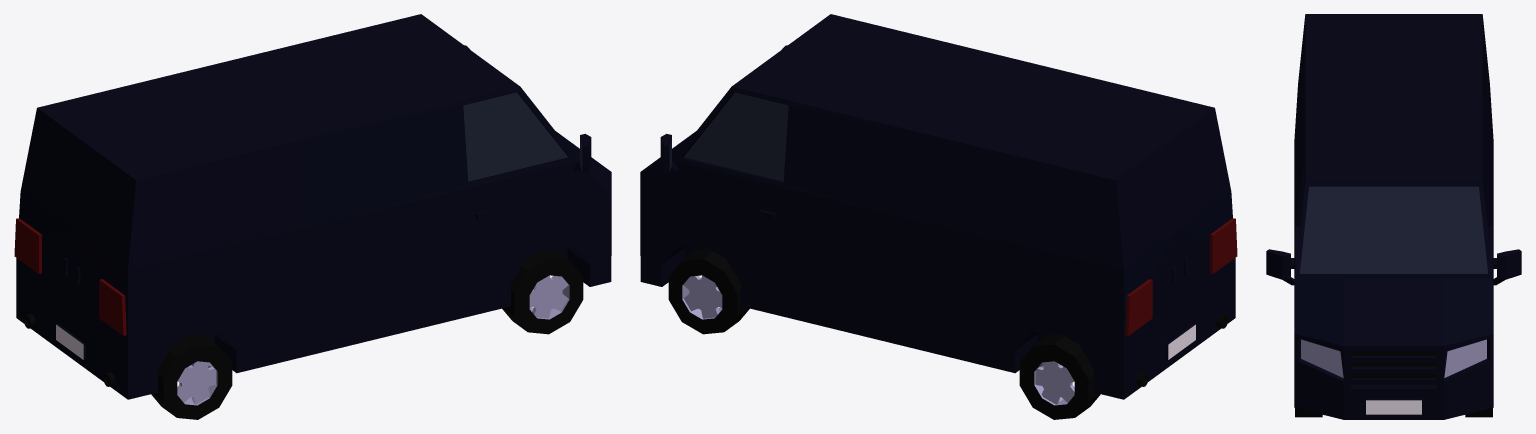
The model's file is van.glb.
3 views of the same model, side by side, from view 1: azimuth 30°, elevation 25°; view 2: azimuth 150°, elevation 25°; view 3: azimuth 270°, elevation 25° (orthographic). The views are drawn at different scales.
Visible parts, largest first — view 1: body_paint, body_glass, wheel_rr_tire (×2), wheel_fr_tire, body_tail, wheel_rr_rim, wheel_fr_rim; view 2: body_paint, body_glass, wheel_rl_tire (×2), wheel_fl_tire, body_tail, wheel_rl_rim, wheel_fl_rim; view 3: body_paint, body_glass, body_lamp, body_trim, body_chrome.
Part boxes in pixels (x1,y1,x2,y2): body_paint: (16,14,611,399); body_glass: (463,92,582,181); wheel_rr_tire (×2): (151,334,232,419); wheel_fr_tire: (511,251,583,334); body_tail: (14,218,126,335); wheel_rr_rim: (177,361,217,405); wheel_fr_rim: (529,275,568,319); body_paint: (640,14,1235,399); body_glass: (669,92,788,181); wheel_rl_tire (×2): (1019,334,1100,419); wheel_fl_tire: (668,251,740,334); body_tail: (1125,218,1237,335); wheel_rl_rim: (1034,361,1074,405); wheel_fl_rim: (683,275,722,319); body_paint: (1266,14,1521,419); body_glass: (1299,186,1488,273); body_lamp: (1301,339,1486,377); body_trim: (1351,352,1436,377); body_chrome: (1366,400,1421,414).
Size of the model in its own units: 5.91 by 2.71 by 2.81.
